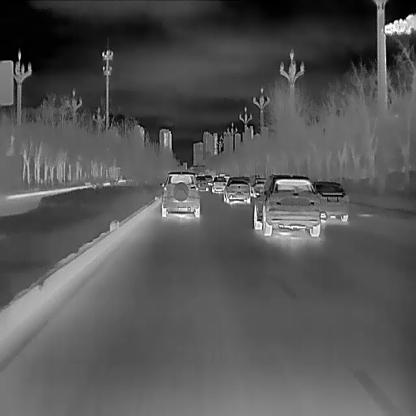car: (250, 173, 319, 237), (159, 168, 200, 219), (310, 179, 349, 220), (222, 176, 250, 203), (250, 176, 265, 197), (210, 175, 227, 193), (194, 174, 208, 191), (204, 174, 212, 182)
